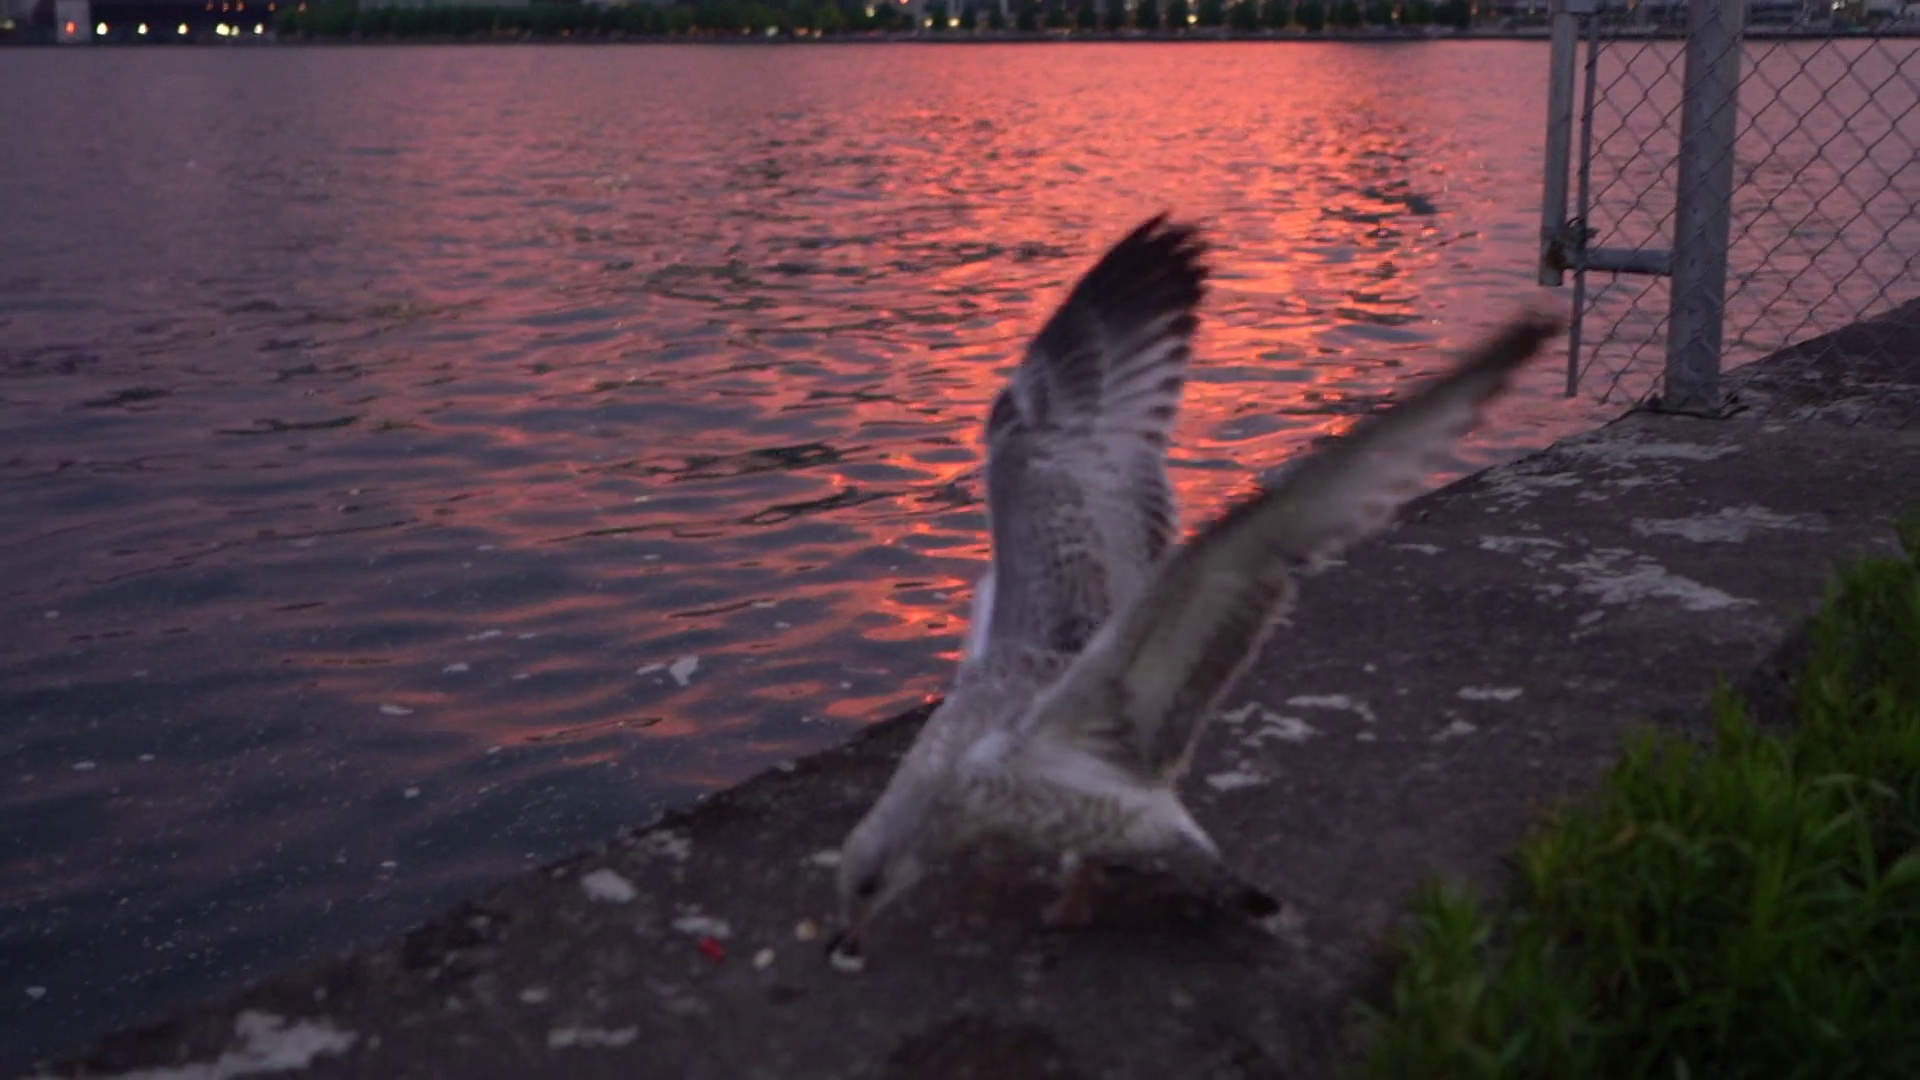bird: (835, 210, 1540, 953)
